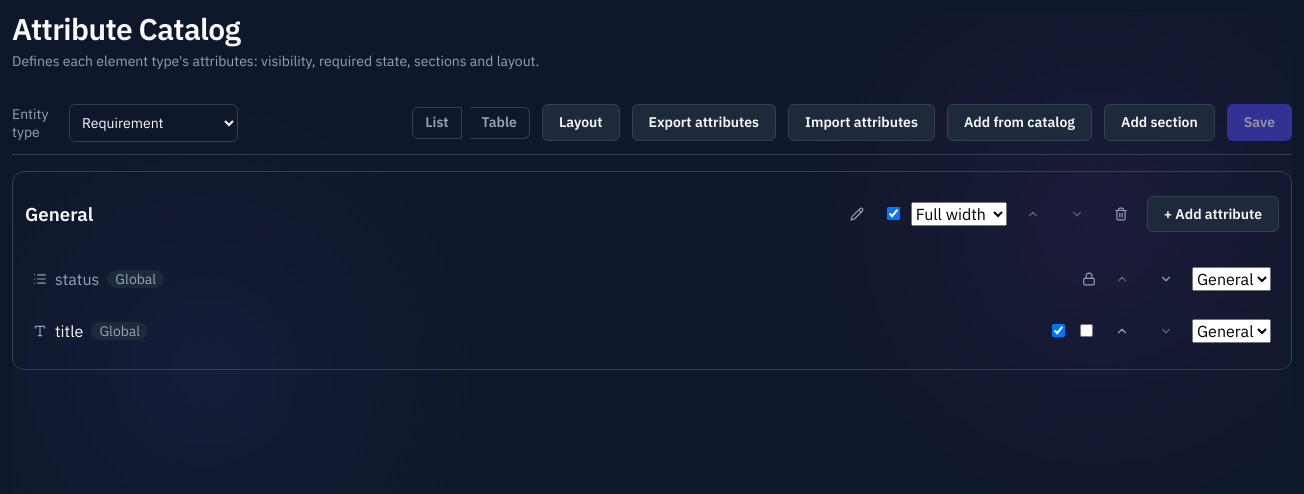
Scenario: AttributeEditorPage › adds an empty section and lets it be deleted again
This screenshot has width=1304, height=494.
Click the button with test id "attribute-editor-add-section": (1159, 122) [1104,104,1215,141]
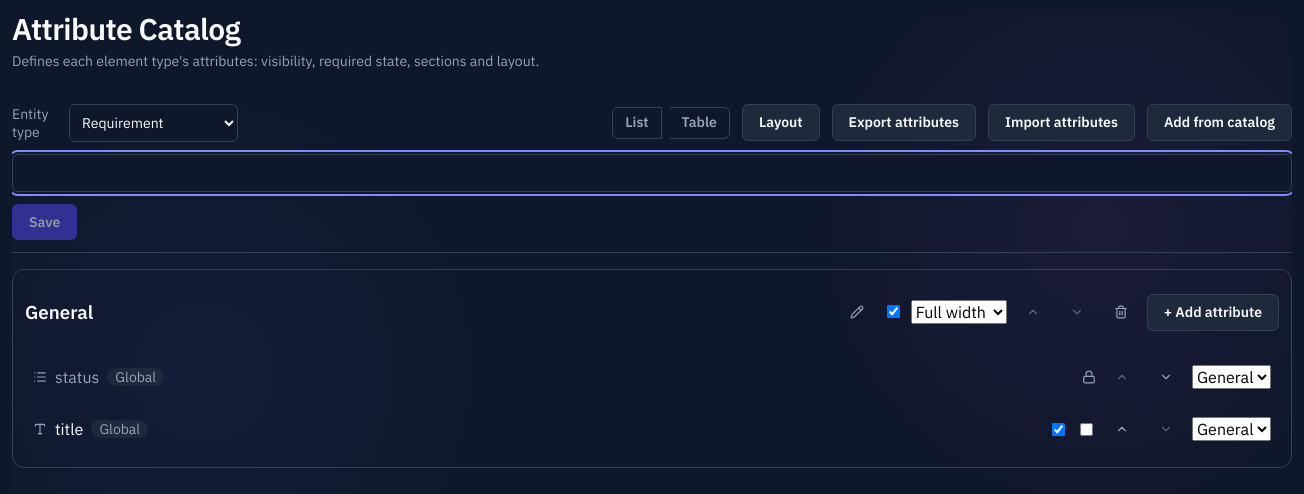
In the field with test id "attribute-editor-new-section-name": (652, 172) [12,154,1292,192], type "extra"
Then press Enter
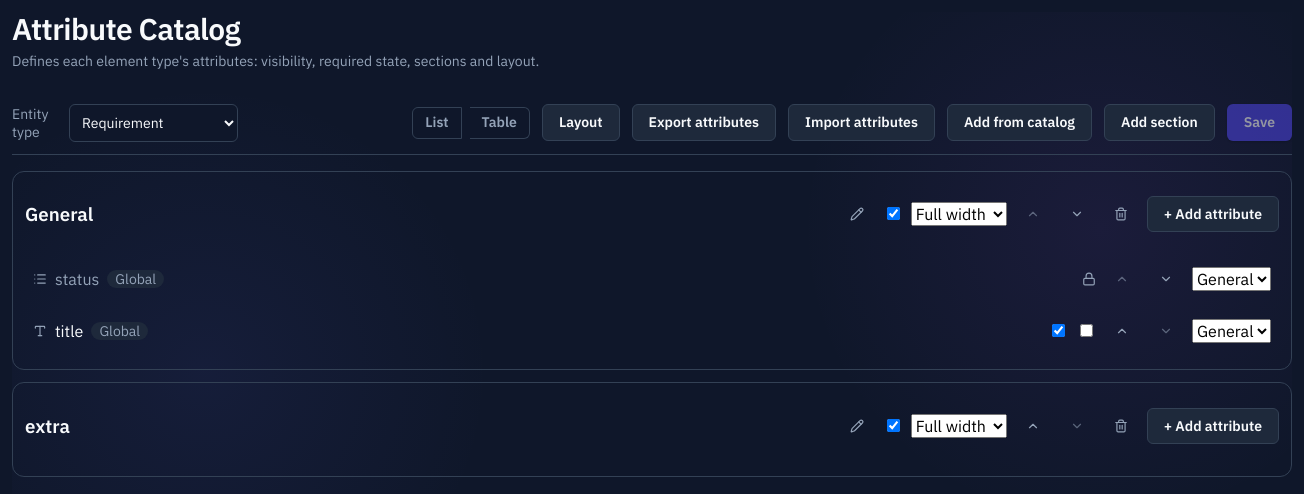
Now the element with test id "attribute-section-extra" is shown, box [12,382,1292,477]
Click the button with test id "attribute-section-extra-delete": (1121, 426) [1103,408,1139,444]
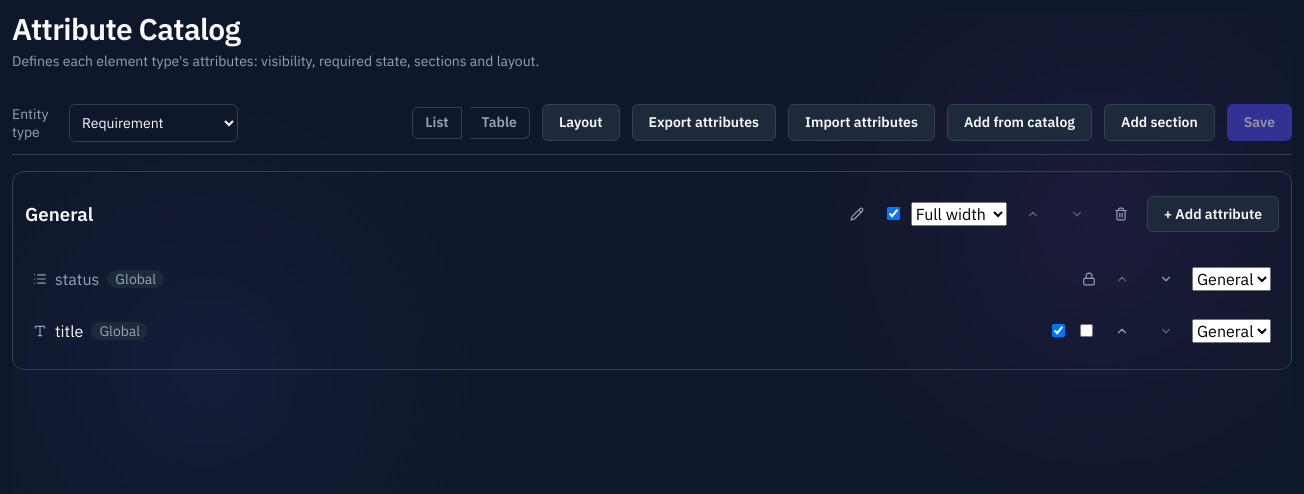
Now the element with test id "attribute-section-extra" is gone
